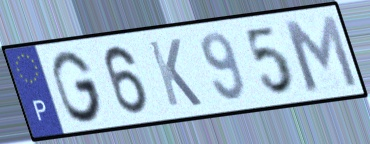5: (244, 23, 297, 98)
6: (101, 42, 152, 117)
9: (198, 30, 248, 103)
G: (50, 48, 106, 125)
K: (145, 36, 205, 109)
M: (279, 12, 362, 94)
